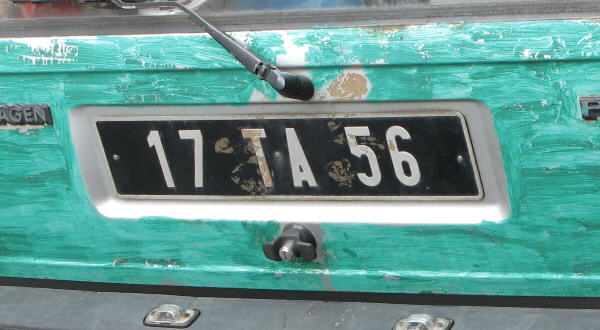license_plate: (92, 110, 485, 203)
